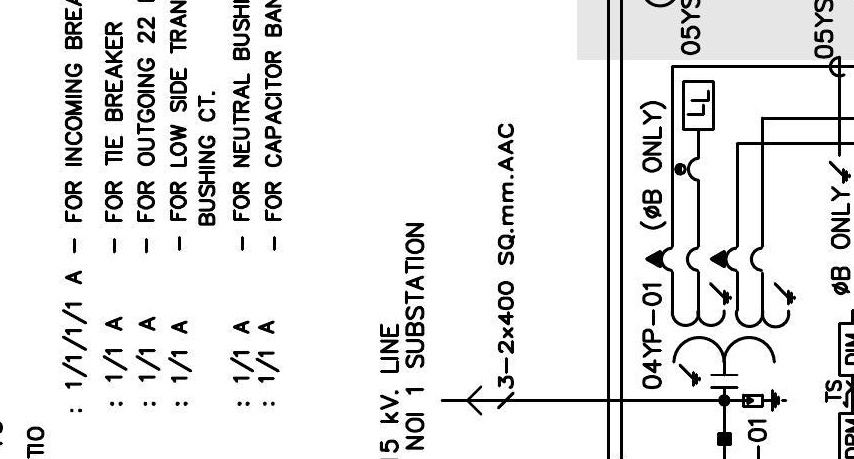115_cvt_1p: (645, 244, 797, 390)
115_la: (742, 388, 788, 413)
LL: (682, 80, 716, 131)
